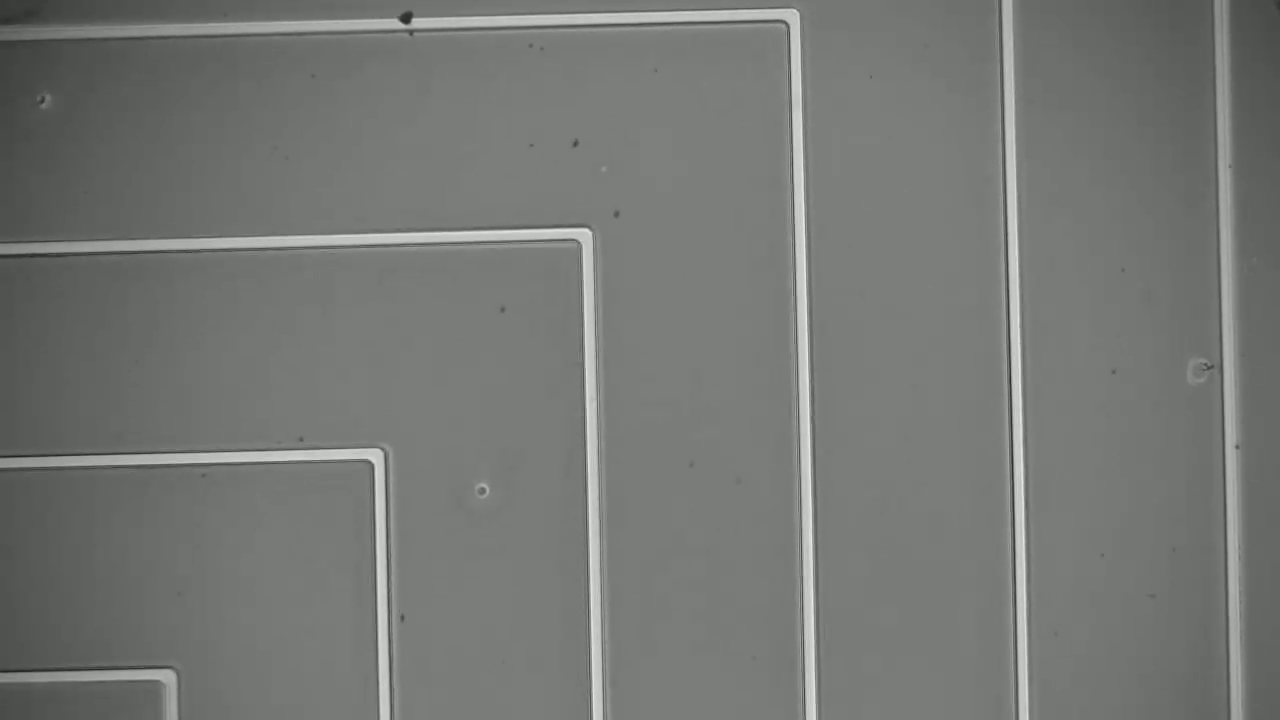stains_enbedded: (393, 5, 421, 42)
